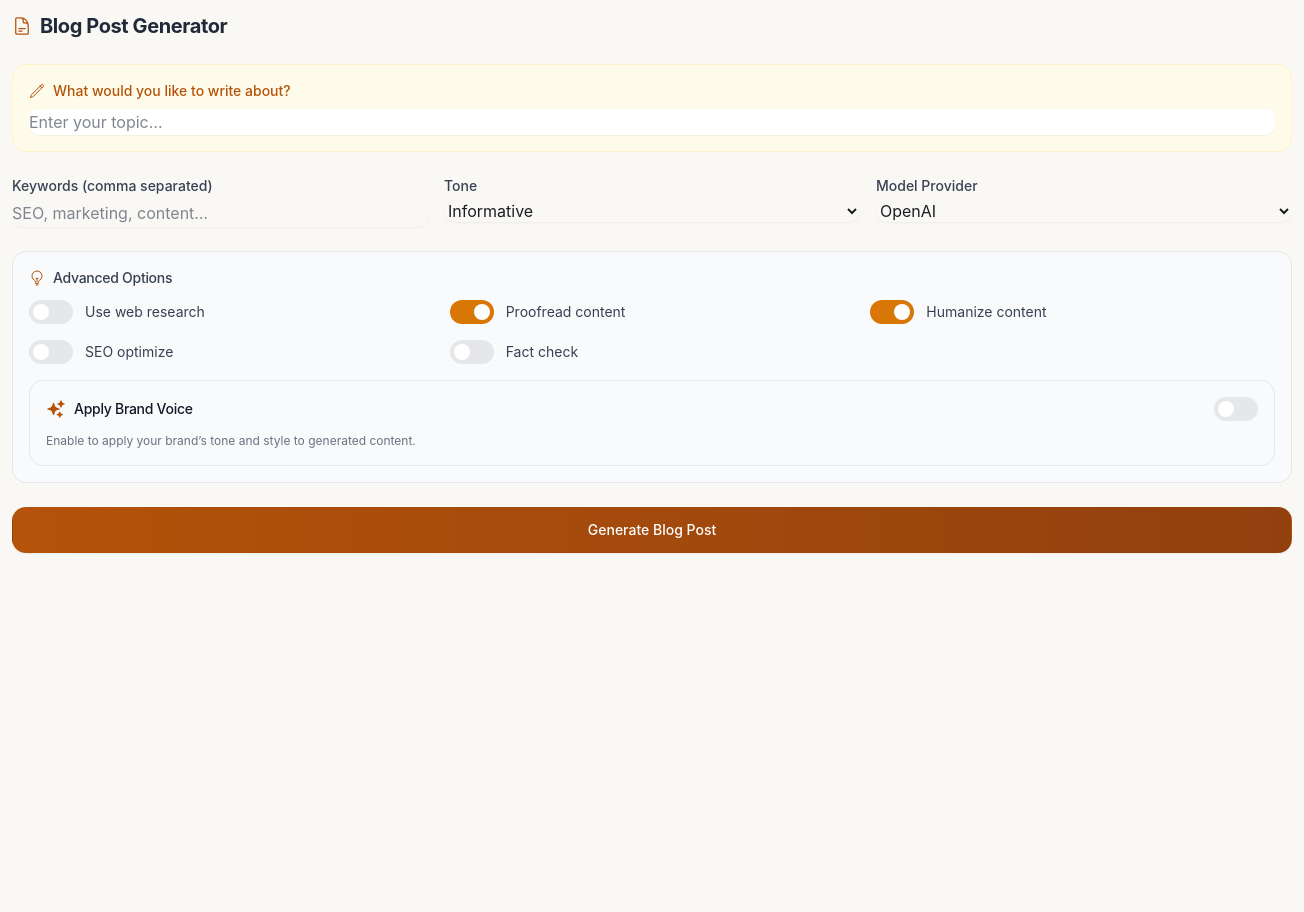
it: ContentGenerator › Error Handling › should allow dismissing error
Type "Test Topic" into the field labelled "What would you like to write about?" at x=652, y=122, box [29,109,1275,135]
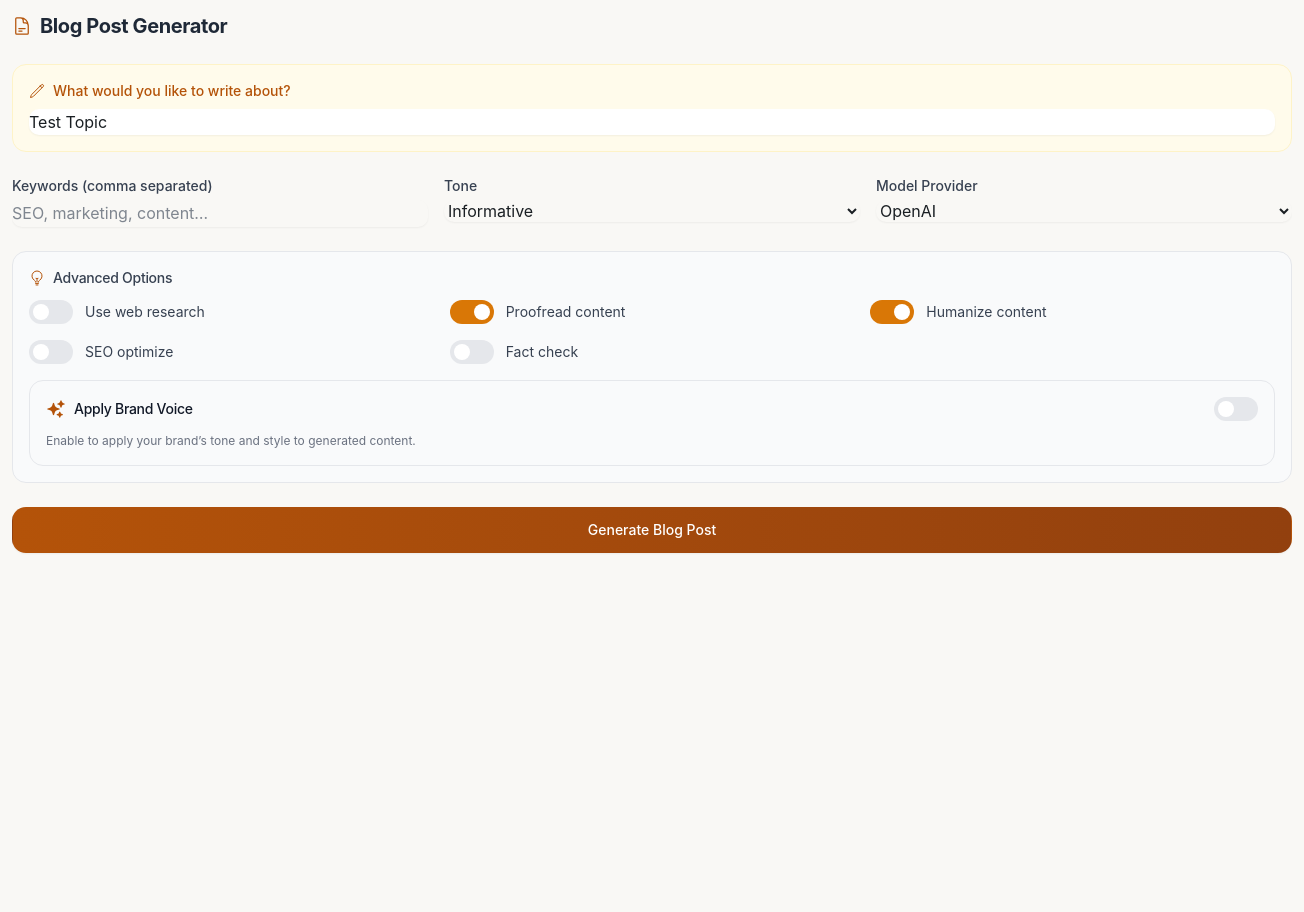
Submit the form from the button "Generate Blog Post", box [12,507,1292,553]
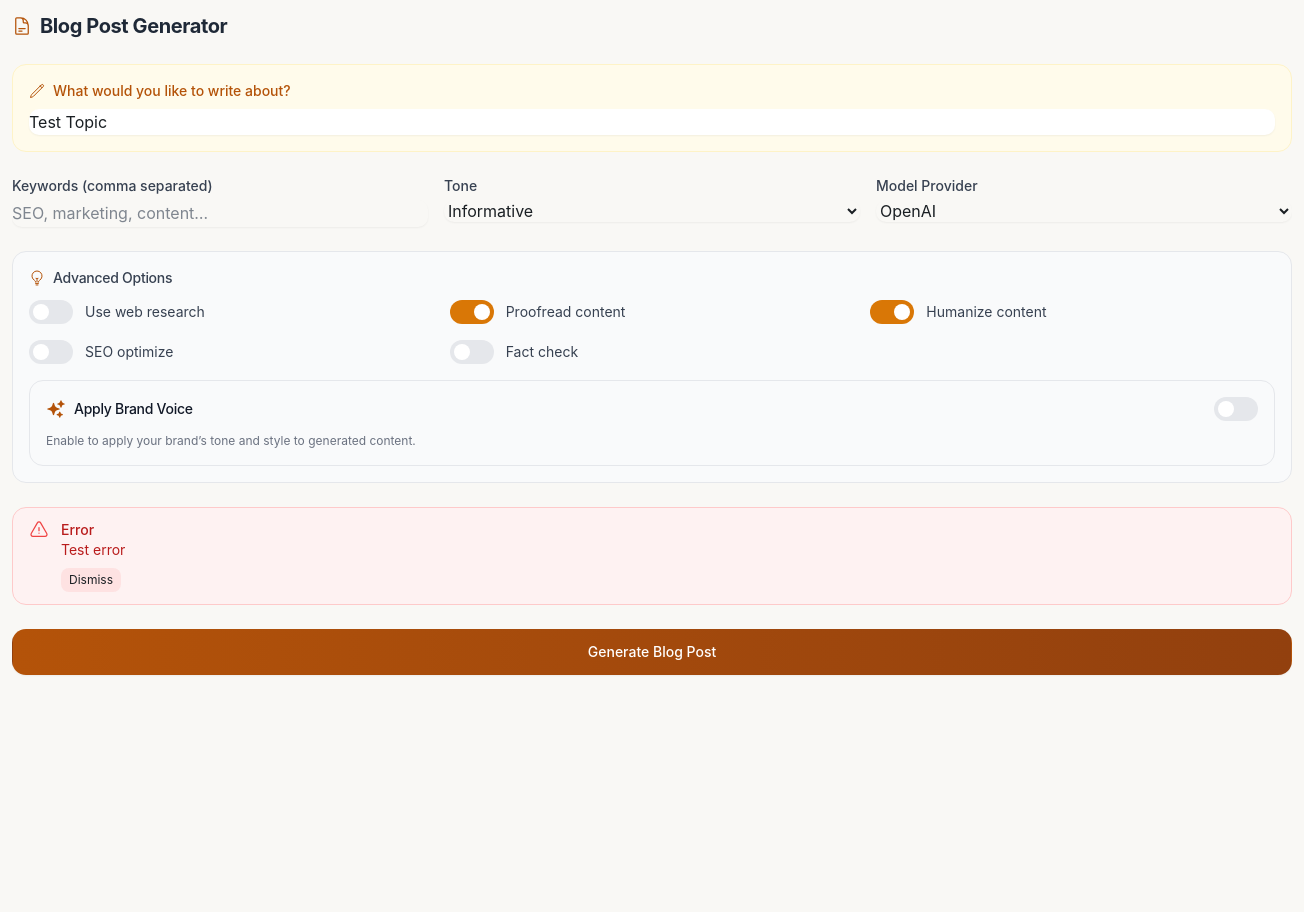
Now the text "Test error" is shown, box [61,541,125,558]
Click the button "Dismiss" at x=91, y=580, box [61,568,121,592]
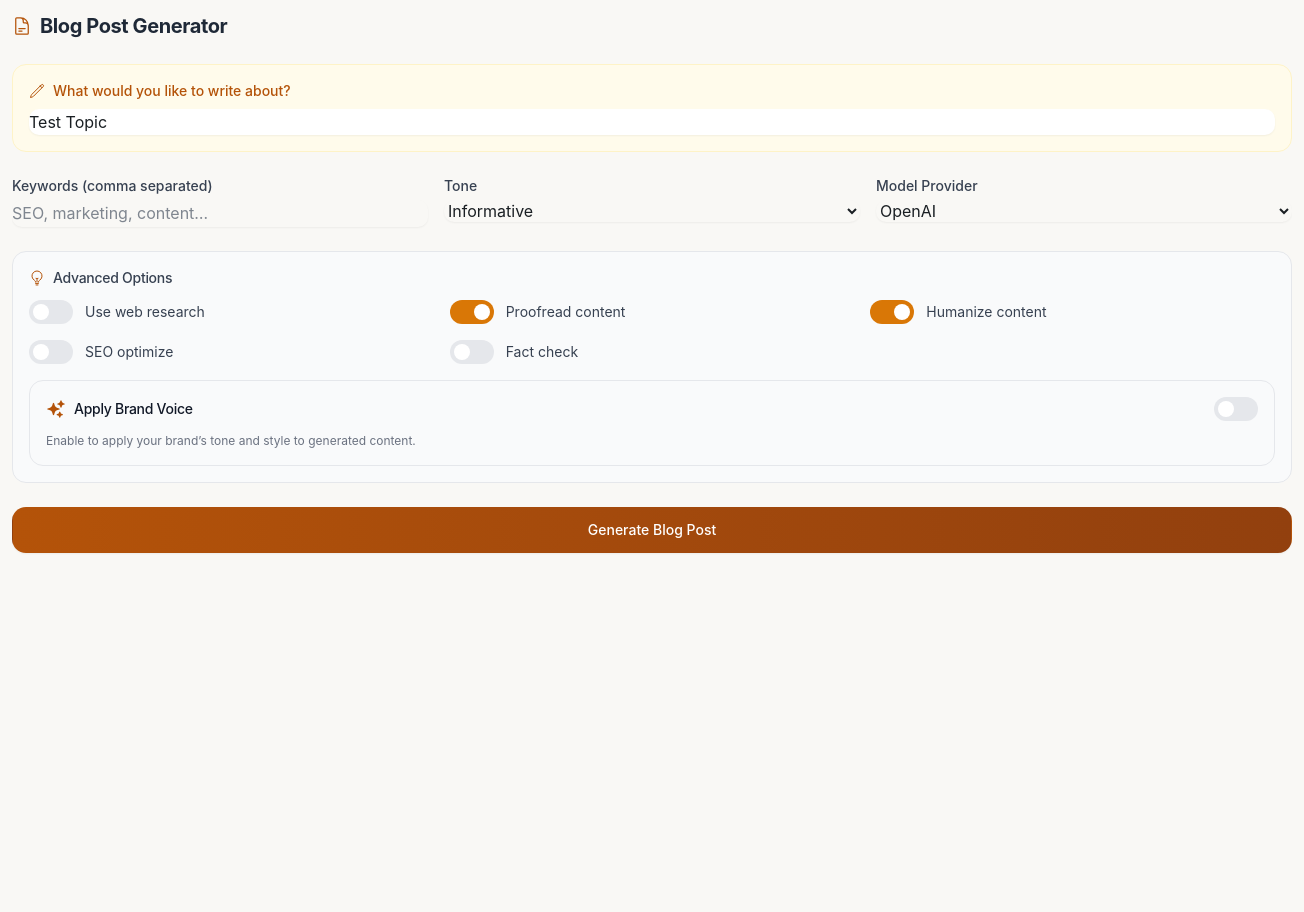
Now the text "Test error" is gone
